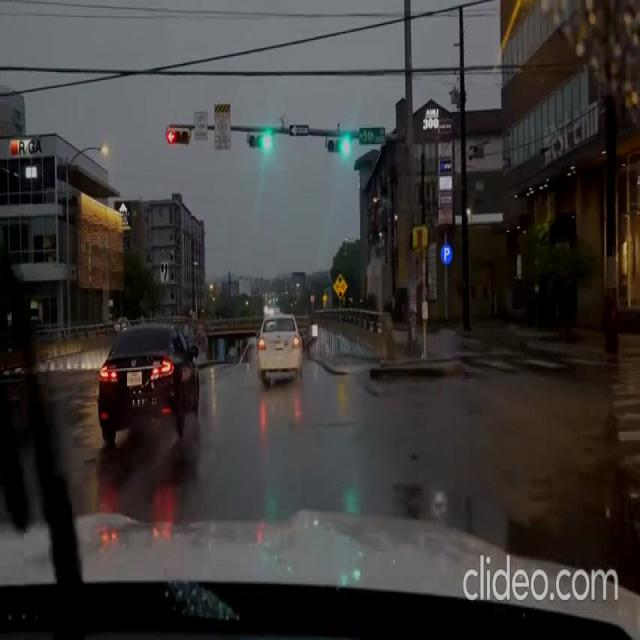Car: (96, 321, 199, 442), (255, 309, 302, 382)
